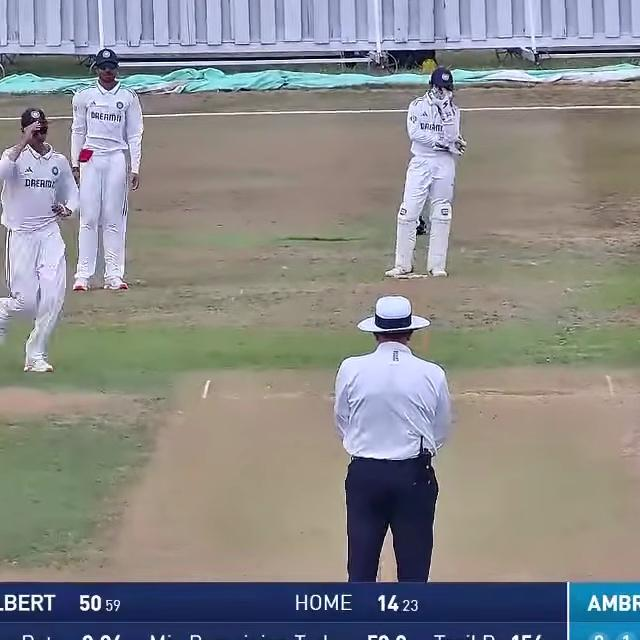umpire: (320, 286, 461, 582)
